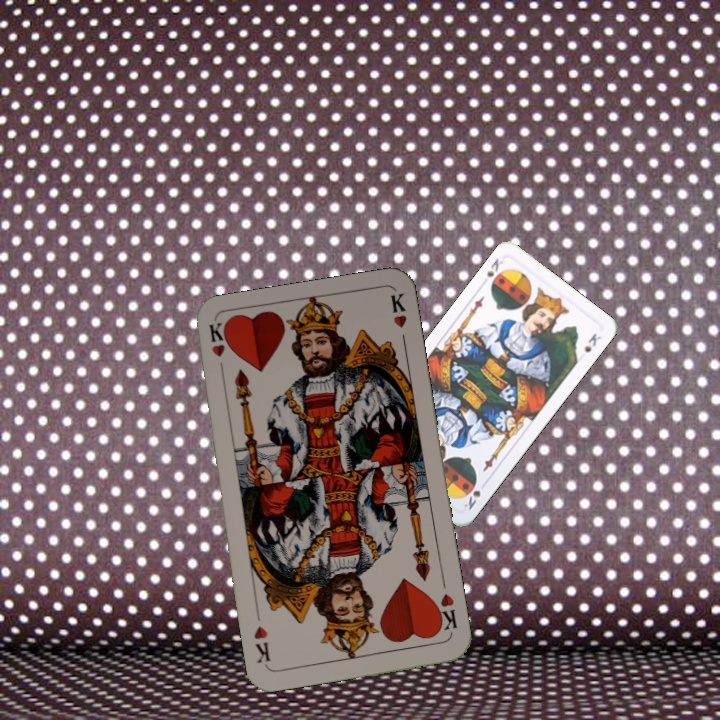HK: (204, 320, 228, 380), (430, 589, 460, 634)
SK: (482, 254, 506, 280), (460, 486, 483, 513)
